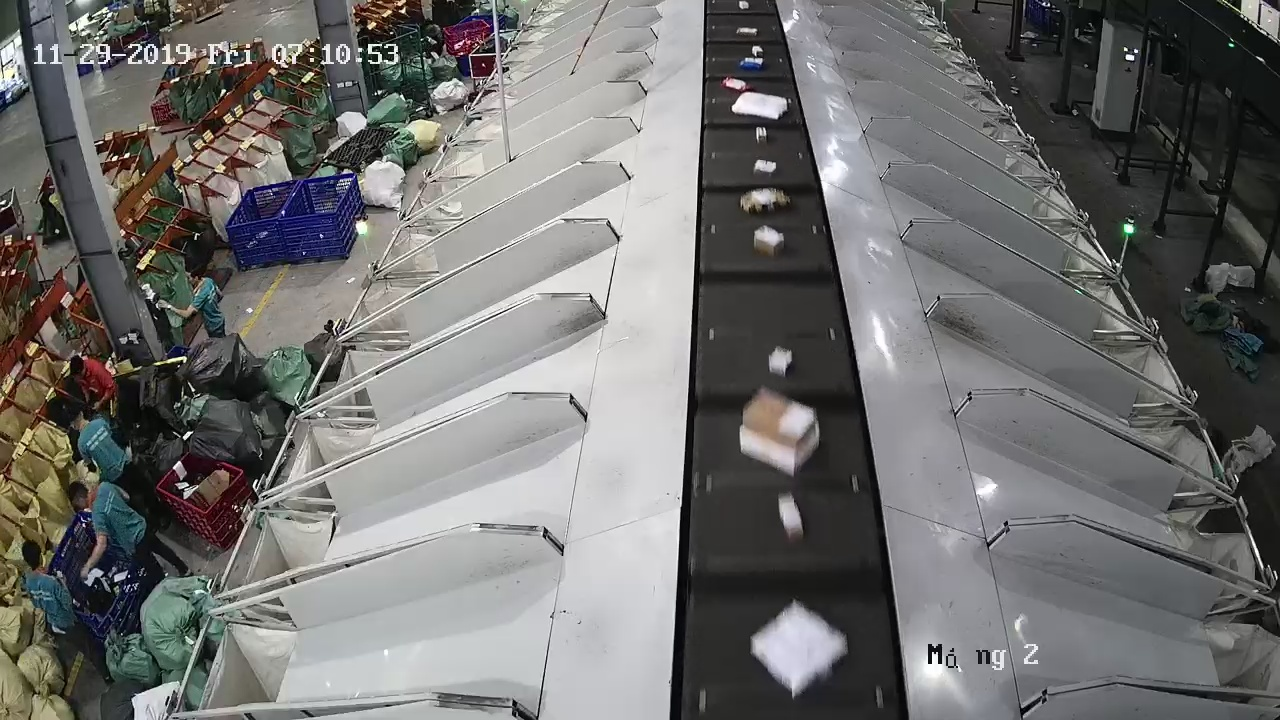parcel: (751, 604, 847, 699), (739, 385, 820, 478), (739, 186, 791, 216), (778, 494, 804, 542), (753, 226, 785, 259), (768, 346, 793, 378), (753, 159, 777, 177)
